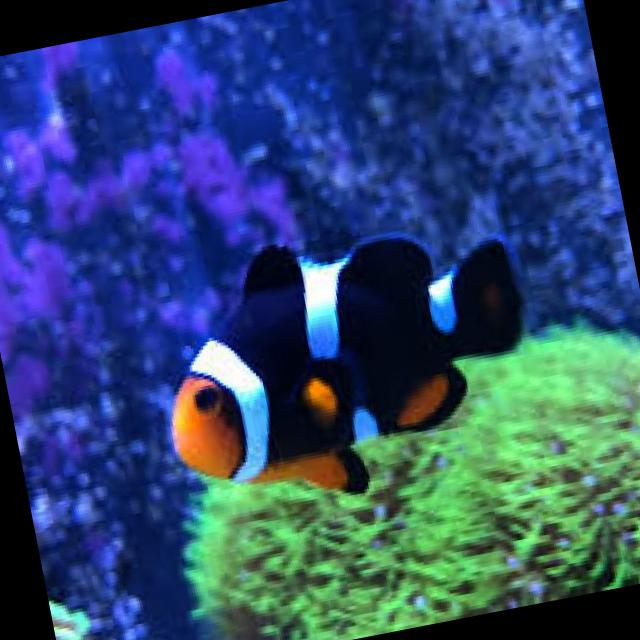ClownFish: (140, 197, 553, 528)
